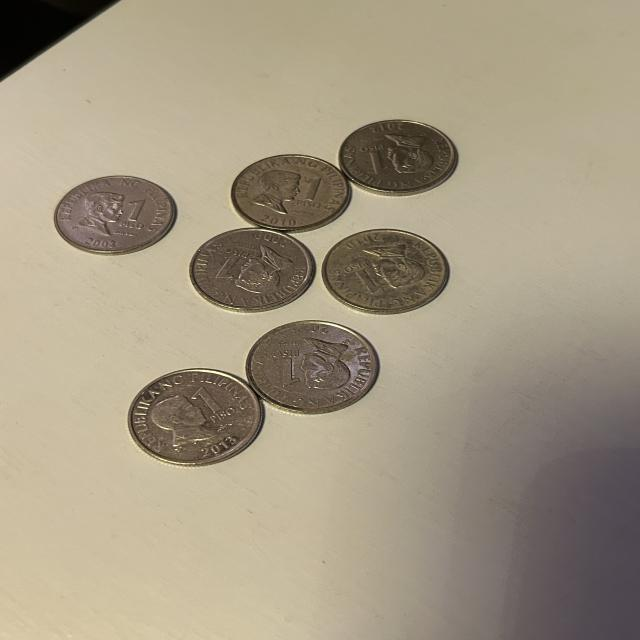1_Old_Front: (266, 343, 306, 389), (189, 388, 236, 426), (343, 258, 384, 300), (114, 197, 152, 234), (215, 245, 248, 283), (358, 142, 391, 178), (298, 171, 323, 212)
